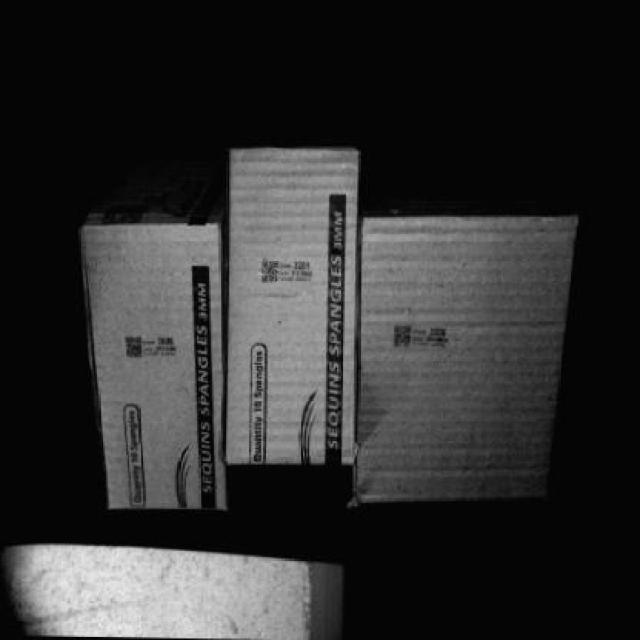cardboxes: (360, 217, 565, 506), (225, 148, 361, 468), (80, 228, 226, 515)
